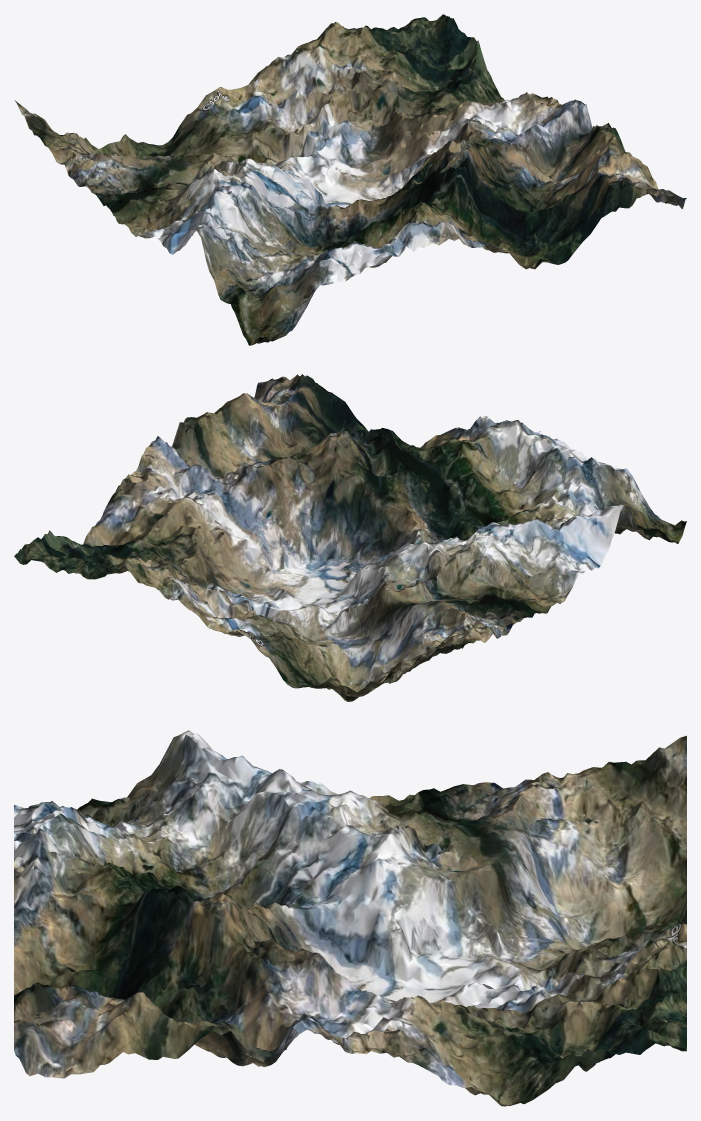
Rendered from Mountains.obj.
The picture shows the model from 3 angles, top to bottom: view 1: azimuth 30°, elevation 25°; view 2: azimuth 150°, elevation 25°; view 3: azimuth 270°, elevation 25°; orthographic projection. The views are drawn at different scales.
Visible parts, largest first — view 1: alps; view 2: alps; view 3: alps.
Boxes of the visible parts, left/top/right/bottom form: alps: left=14, top=14, right=686, bottom=345; alps: left=14, top=374, right=686, bottom=701; alps: left=14, top=730, right=686, bottom=1106.
Bounding box in the file's own units: 37524 × 10206 × 37191.
Materials: 1 (1 with a texture image).
